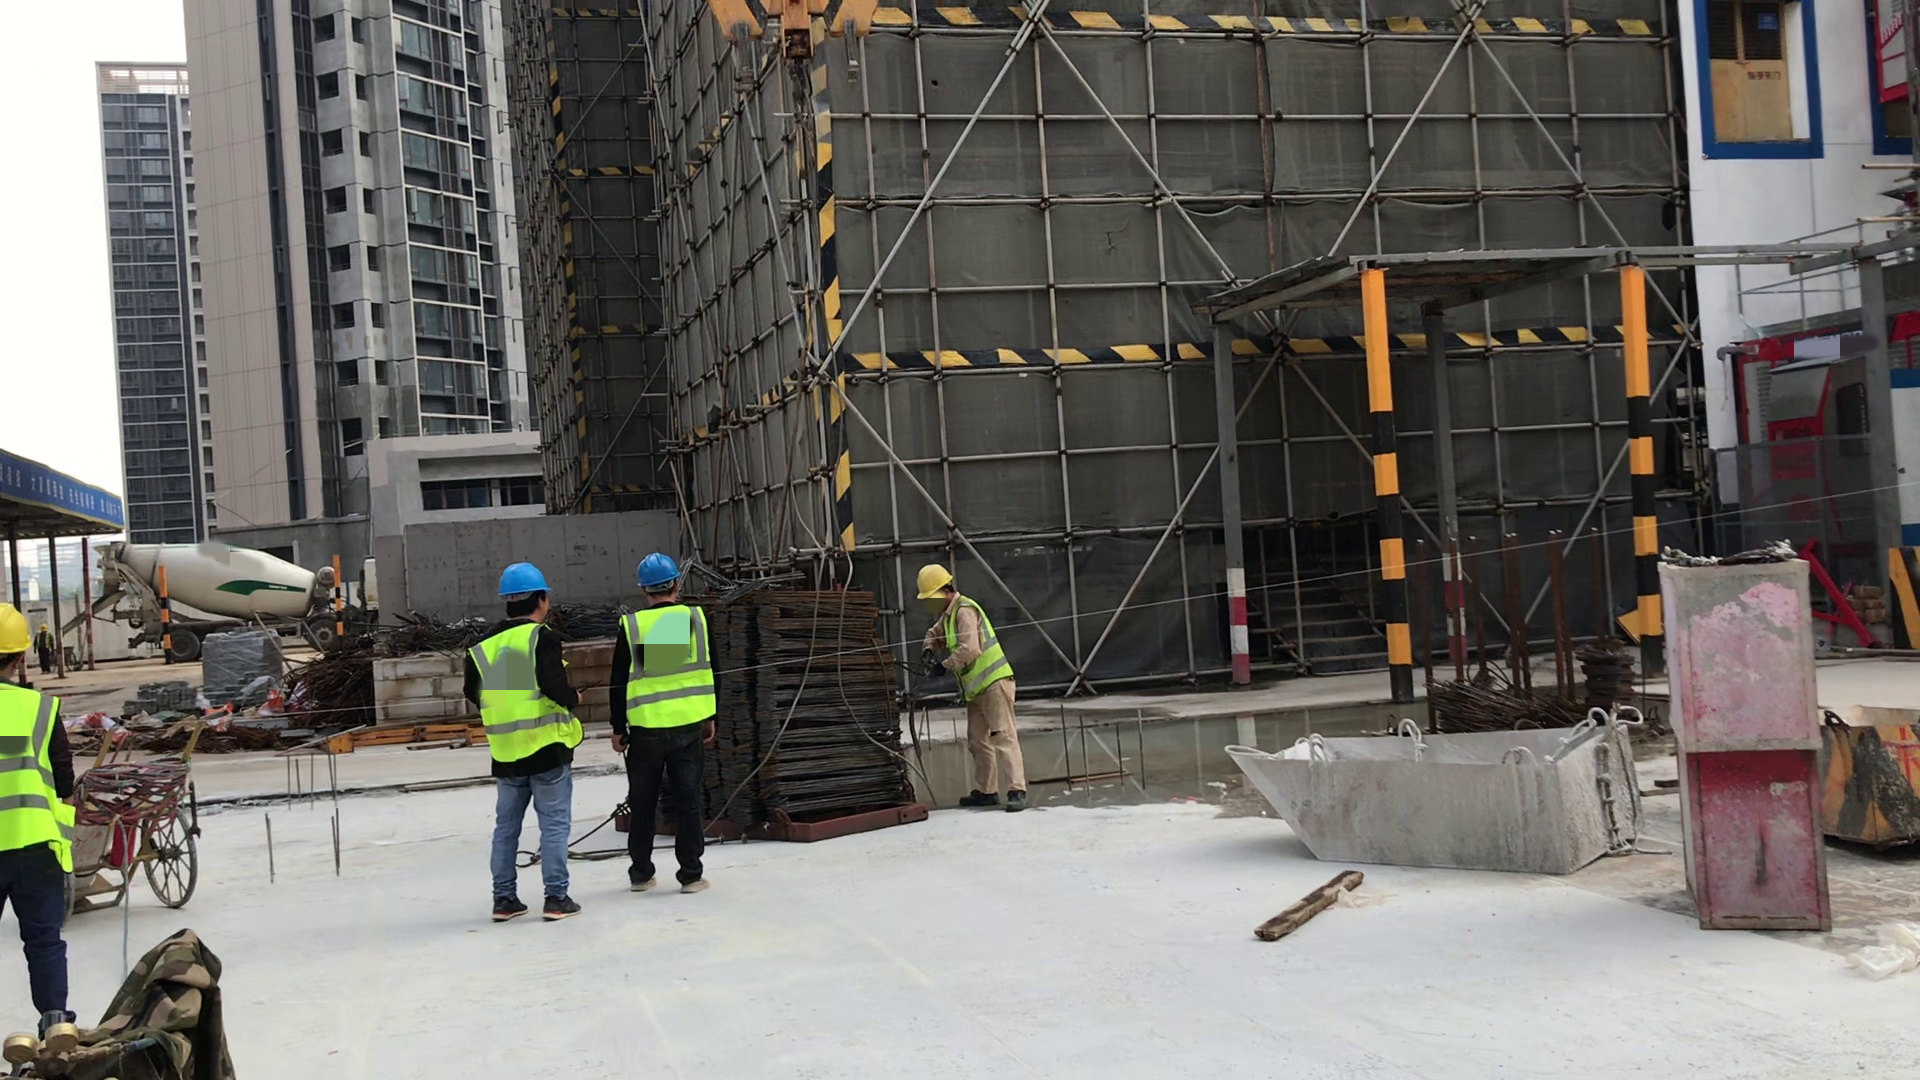handcart: (80, 715, 207, 916), (64, 644, 78, 673)
helmet: (497, 565, 552, 601), (917, 565, 952, 606), (633, 553, 677, 586), (4, 600, 29, 656), (38, 623, 48, 633)
hook: (706, 1, 878, 86)
hopper: (1219, 719, 1648, 876), (1815, 679, 1920, 853)
person: (454, 558, 593, 927), (604, 553, 725, 897), (3, 600, 80, 1032), (912, 558, 1033, 815), (31, 623, 56, 675)
slogan: (3, 452, 130, 539)
vest: (471, 619, 585, 767), (1, 690, 75, 880), (621, 606, 719, 734), (941, 600, 1017, 704)
